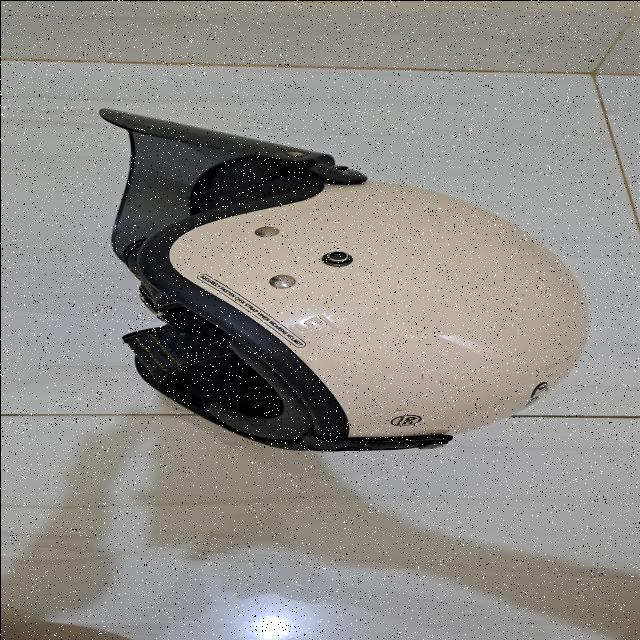Helmet: (98, 108, 587, 450)
